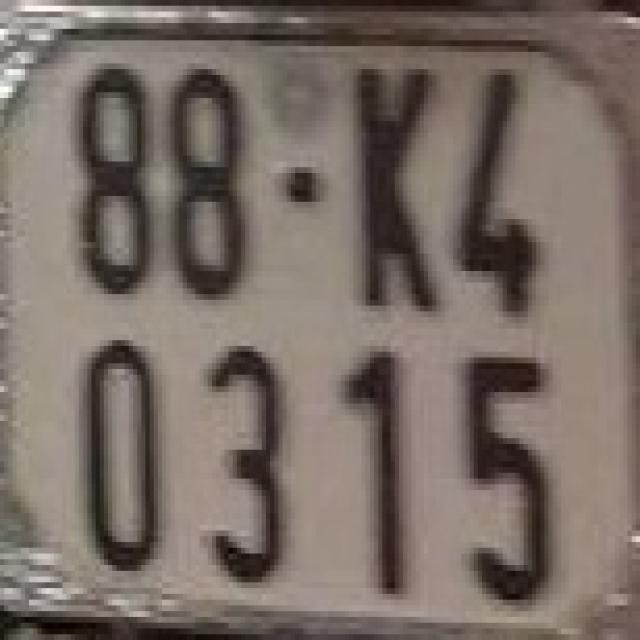0: (79, 332, 166, 574)
1: (338, 346, 418, 594)
3: (199, 335, 287, 588)
4: (457, 63, 545, 323)
5: (459, 346, 559, 605)
8: (170, 60, 250, 297), (75, 60, 154, 297)
K: (354, 58, 436, 317)
